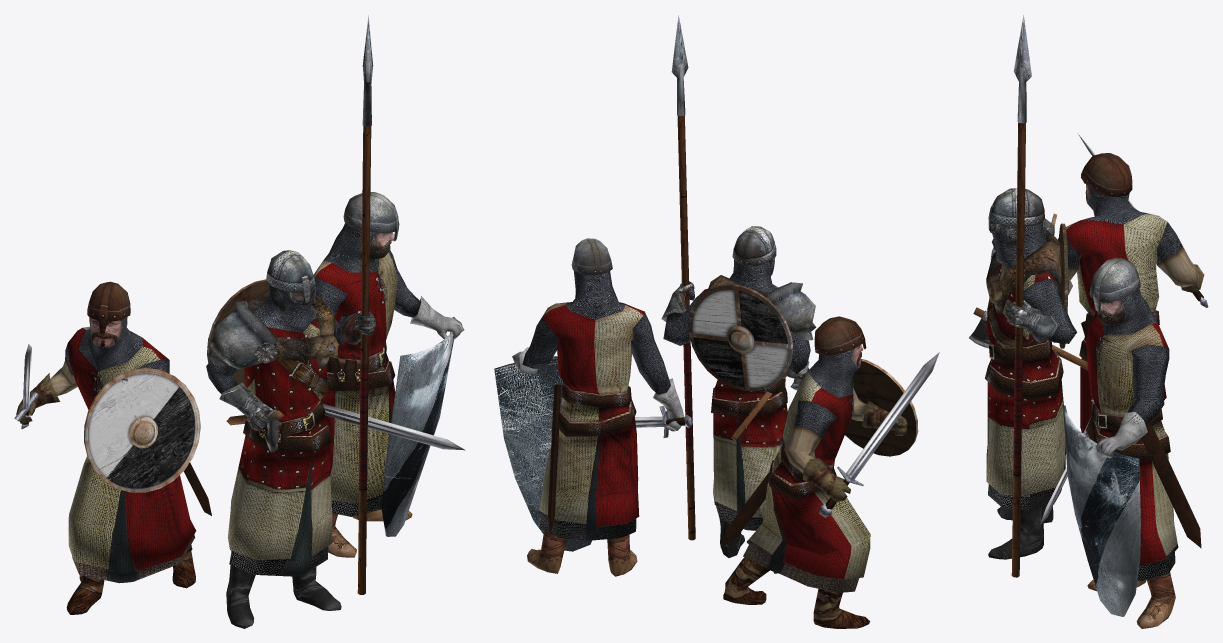
The picture shows the model from 3 angles, left to right: view 1: azimuth 30°, elevation 25°; view 2: azimuth 150°, elevation 25°; view 3: azimuth 270°, elevation 25°; orthographic projection. The views are drawn at different scales.
Visible parts, largest first — view 1: Body_3_11, Body1_0, Body_2_5, round_shield_01_2, warrior_shield_04_9, Spear_17, shoulder_armours1_15, shoulder_armours_fur_16, Legs1.002_13, Helmet.001_12, Legs1_1, Helmet_6 (+6 smaller); view 2: Body_2_5, Body1_0, Body_3_11, round_shield_02.001_14, warrior_shield_04_9, Spear_17, round_shield_01_2, sword_primary_4, Legs1_1, Legs1.001_7, shoulder_armours1_15, sword_primary.001_8 (+3 smaller); view 3: Body_3_11, Body_2_5, warrior_shield_04_9, Body1_0, Spear_17, shoulder_armours_fur_16, sword_primary.001_8, Helmet.001_12, Helmet_6, Helm1_3, Legs1.002_13, Legs1.001_7 (+2 smaller).
Part boxes in pixels (x1,y1,x2,y2): Body_3_11: (206, 283, 376, 576); Body1_0: (16, 317, 196, 583); Body_2_5: (313, 223, 464, 516); round_shield_01_2: (84, 368, 200, 492); warrior_shield_04_9: (381, 317, 455, 536); Spear_17: (357, 15, 373, 594); shoulder_armours1_15: (209, 301, 276, 369); shoulder_armours_fur_16: (247, 292, 338, 369); Legs1.002_13: (226, 551, 341, 628); Helmet.001_12: (266, 250, 316, 311); Legs1_1: (66, 545, 195, 614); Helmet_6: (343, 192, 399, 241); Body_2_5: (512, 270, 684, 540); Body1_0: (743, 344, 907, 592); Body_3_11: (661, 254, 810, 530); round_shield_02.001_14: (689, 284, 793, 391); warrior_shield_04_9: (494, 356, 592, 551); Spear_17: (671, 15, 695, 540); round_shield_01_2: (845, 358, 918, 456); sword_primary_4: (720, 352, 939, 547); Legs1_1: (723, 557, 869, 628); Legs1.001_7: (527, 523, 637, 576); shoulder_armours1_15: (766, 282, 816, 340); sword_primary.001_8: (548, 384, 692, 535); Body_3_11: (985, 222, 1076, 511); Body_2_5: (1086, 289, 1178, 581); warrior_shield_04_9: (1063, 405, 1140, 616); Body1_0: (1057, 184, 1204, 436); Spear_17: (1011, 15, 1031, 577); shoulder_armours_fur_16: (986, 227, 1061, 313); sword_primary.001_8: (1039, 399, 1201, 548); Helmet.001_12: (988, 188, 1044, 247); Helmet_6: (1089, 258, 1140, 312); Helm1_3: (1081, 153, 1132, 197); Legs1.002_13: (988, 506, 1053, 559); Legs1.001_7: (1087, 559, 1175, 628).
Size of the model in its own units: 2.57 by 3.09 by 1.18.
Materials: 6 (6 with a texture image).
